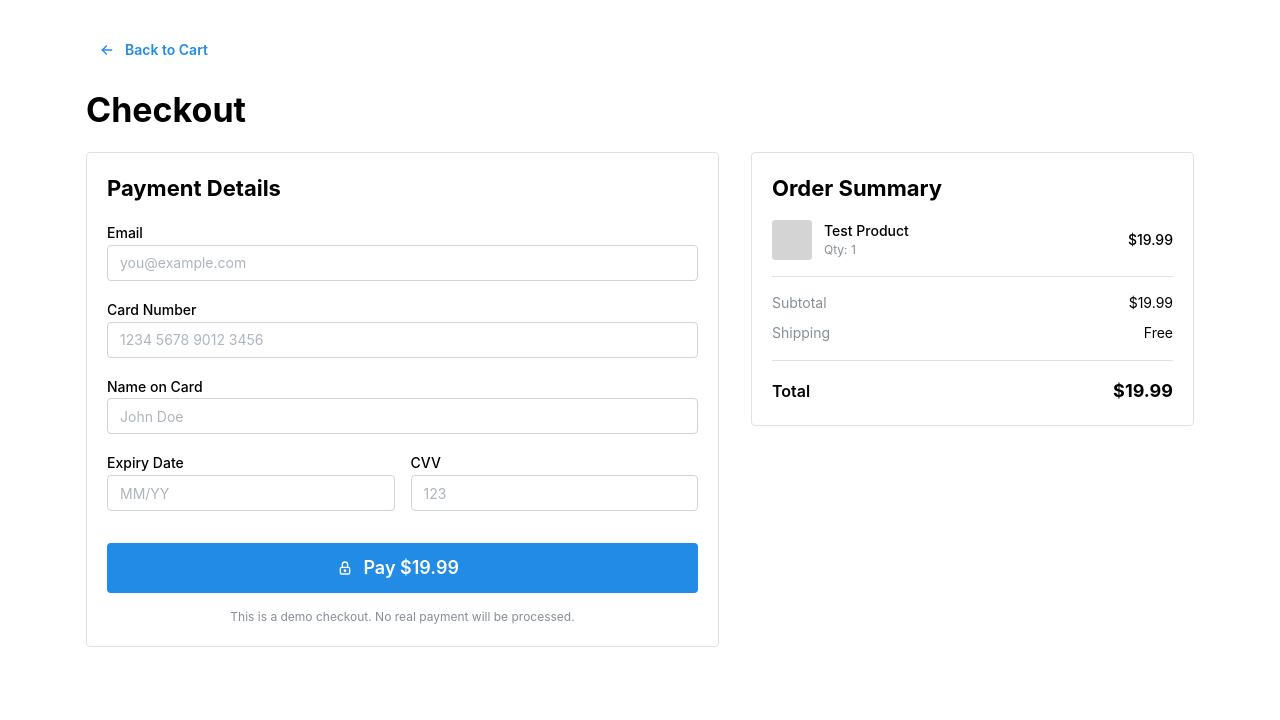
Test: Checkout Page › Payment Form › formats card number with spaces
Type "1234567890123456" into the field labelled "Card Number" at (402,340), box x1=107 y1=322 x2=698 y2=358
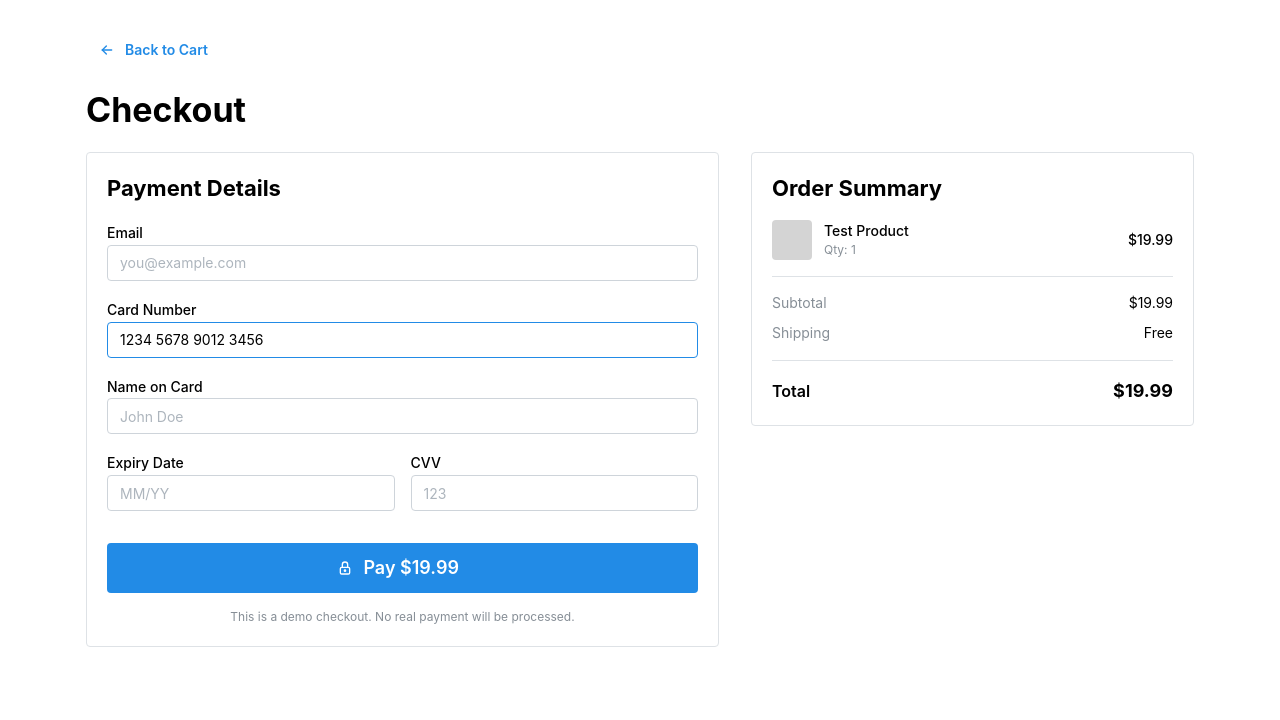
Expected: the field labelled "Card Number" holds "1234 5678 9012 3456", x1=107 y1=322 x2=698 y2=358
